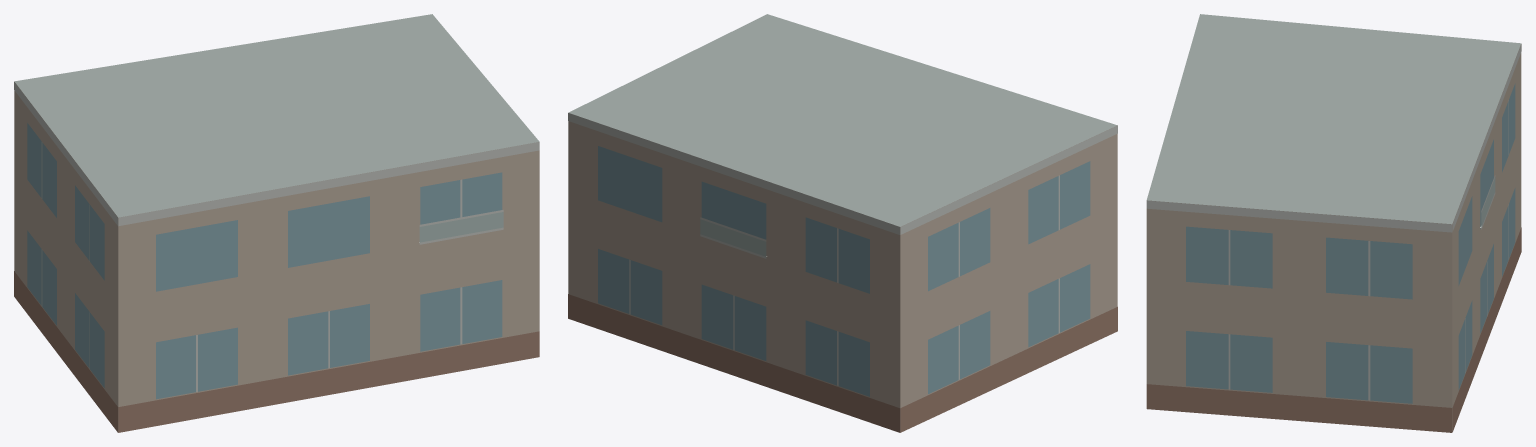
File: survey-upis-32934900.glb
3 views of the same model, side by side, from view 1: azimuth 30°, elevation 25°; view 2: azimuth 150°, elevation 25°; view 3: azimuth 270°, elevation 25° (orthographic). The views are drawn at different scales.
Parts seen in each view (by area): view 1: survey-upis-32934900.tmp; view 2: survey-upis-32934900.tmp; view 3: survey-upis-32934900.tmp.
Part boxes in pixels (box(x1,y1,x2,y2)): survey-upis-32934900.tmp: box(14, 14, 539, 432); survey-upis-32934900.tmp: box(568, 14, 1117, 432); survey-upis-32934900.tmp: box(1146, 14, 1521, 432).
Bounding box in the file's own units: 13.19 × 6.1 × 9.94.
